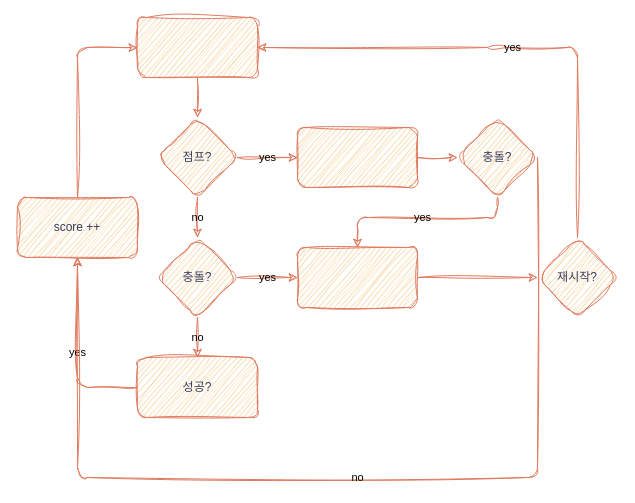
The diagram is 635 pixels wide and 503 high, and some of its shapes have lost their labels. Here are the shapes that lost their labels. From the top down, the box of each, then its label:
(136, 16, 258, 78): game start
(296, 126, 418, 188): 계속 (충돌하지 않을 시)
(296, 246, 418, 308): "Game Over"
